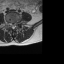CCS_normal: (12, 21, 14, 30)
LFS_severe_stenosis: (16, 20, 18, 26)
LLS_normal: (14, 22, 16, 29)
RFS_normal: (8, 20, 10, 26)
RLS_normal: (10, 21, 12, 29)
